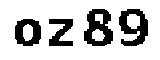8: (82, 6, 116, 49)
9: (118, 6, 149, 50)
o: (12, 18, 43, 48)
z: (46, 16, 75, 48)
